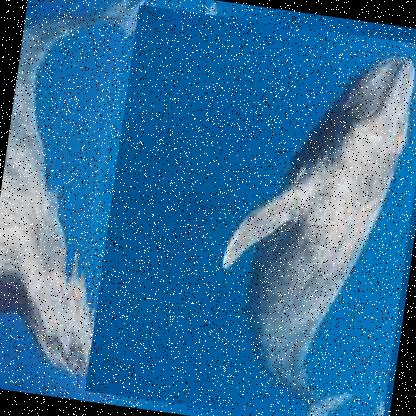blue_whale: (85, 3, 415, 415)
